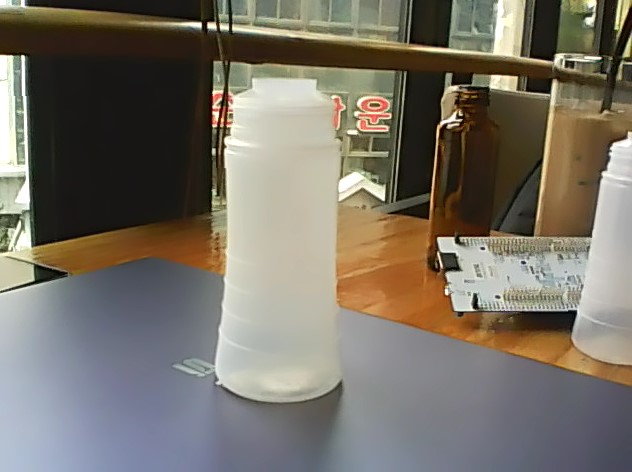Plastic: (207, 76, 350, 407)
